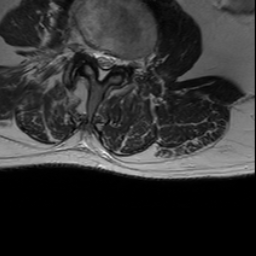CCS_normal: (98, 43, 106, 88)
LFS_stenosis: (117, 49, 127, 73)
LLS_normal: (106, 48, 116, 76)
RFS_normal: (83, 37, 92, 64)
RLS_normal: (92, 42, 101, 71)
